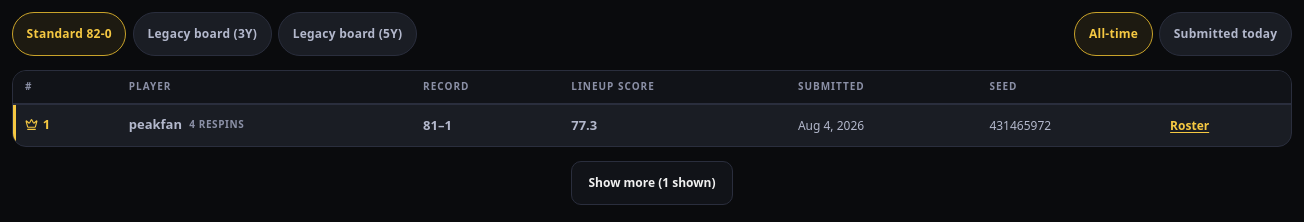
Scenario: pagination › loads the next page with the server's cursor and appends it
Expected: the table with test id "leaderboard-table" is shown, [13, 71, 1291, 146]
Click the button with test id "ps-board-more".
click(652, 183)  # box [572, 161, 732, 205]
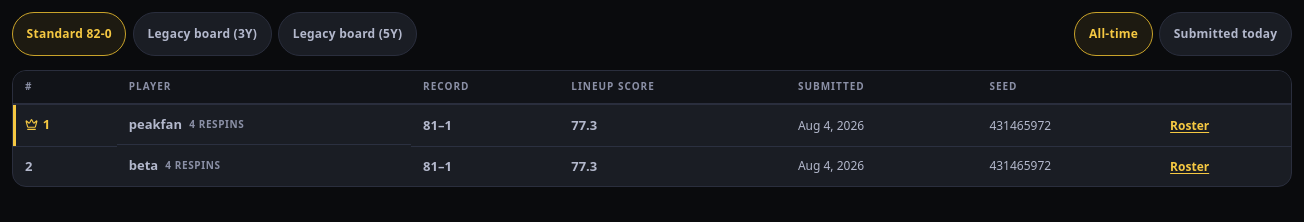
Expected: the number of rows with test id "leaderboard-row" is 2, [13, 105, 1291, 147]; [13, 147, 1291, 186]
